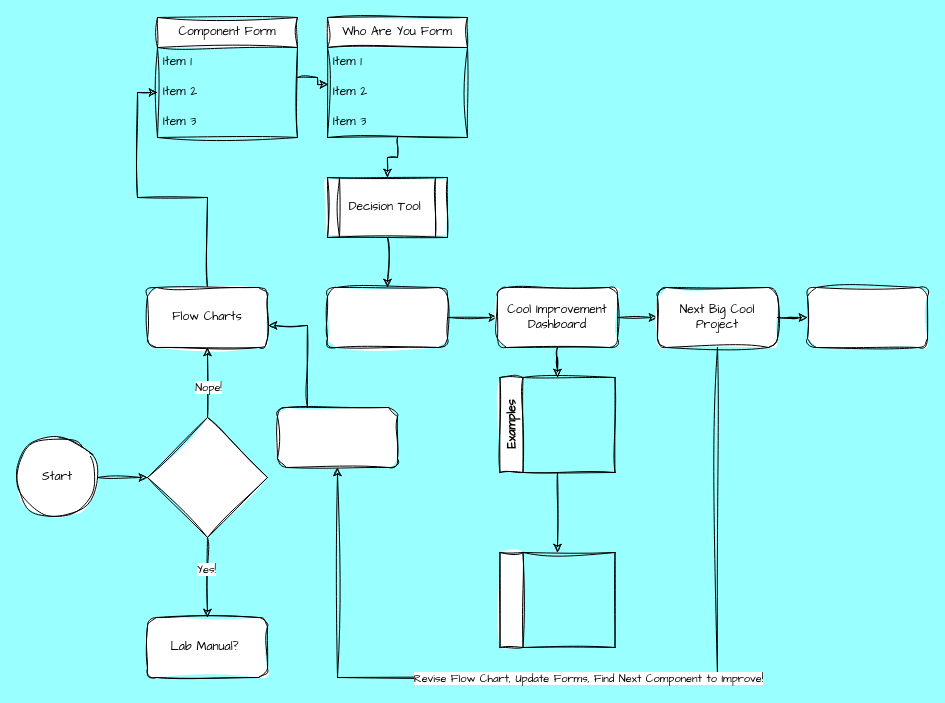
Image size: 945x703. Some labels were removed from this diagram. The shapes that lost their labels are listed below. From the top down, each one's centre as x and y in pixels, then its label:
the point at 387,317: Decision: Which Component to Improve?
the point at 867,317: Share It!
the point at 337,437: Revise Flow Chart
the point at 207,477: Do you Need a Lab Manual?
the point at 557,600: Templates
